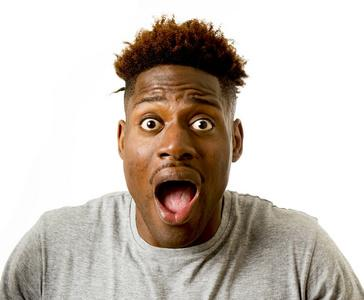张嘴: (150, 170, 202, 220)
